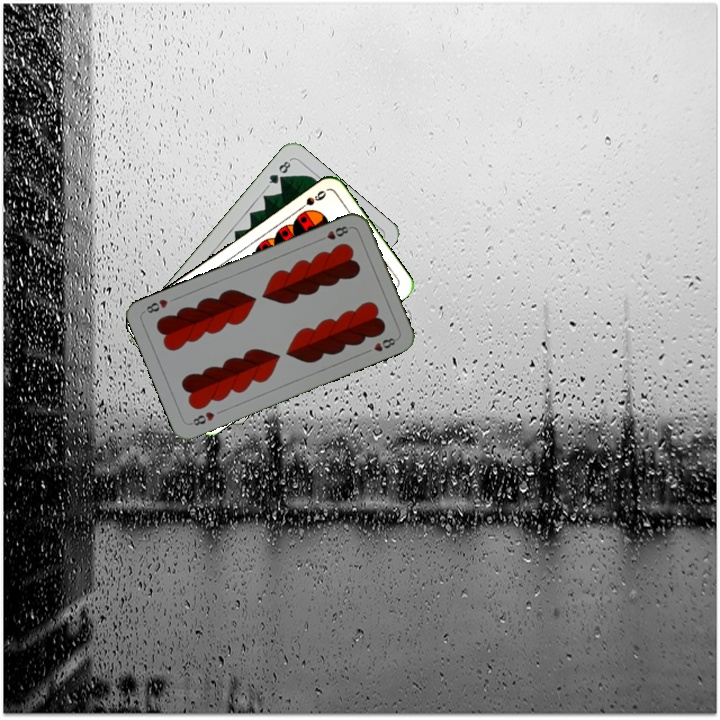G8: (263, 156, 294, 190)
H8: (315, 222, 353, 244), (186, 407, 217, 428)
S9: (293, 186, 329, 214)
